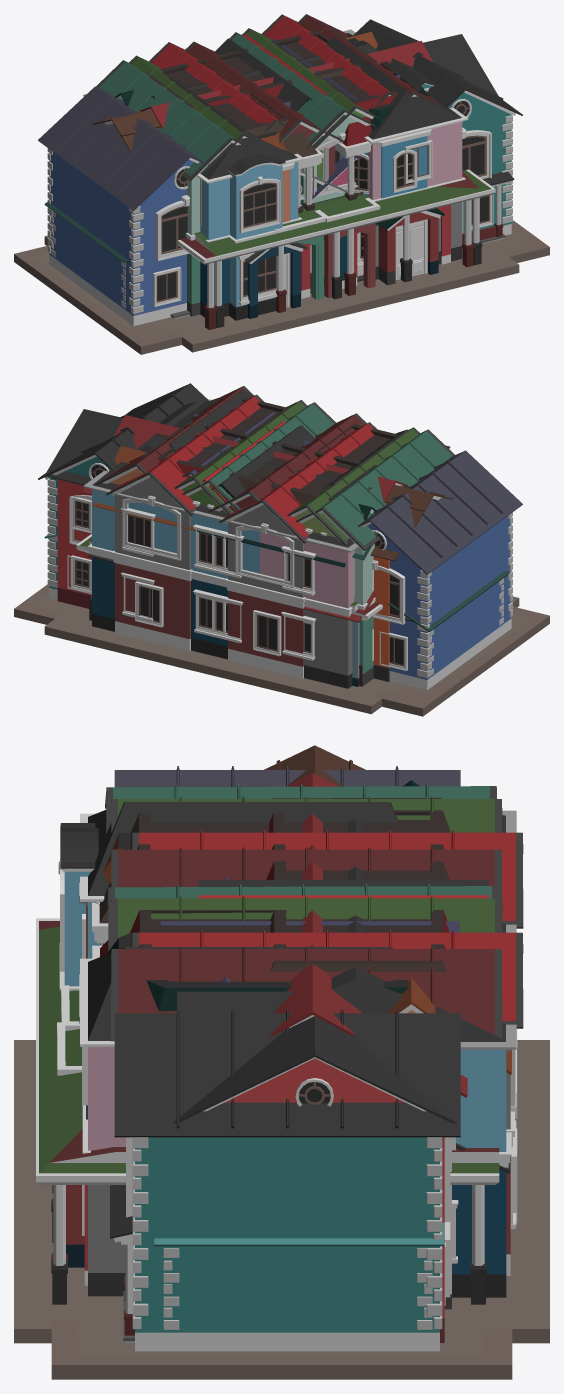
File: houses_pack.glb
3 views of the same model, one above another, from view 1: azimuth 30°, elevation 25°; view 2: azimuth 150°, elevation 25°; view 3: azimuth 270°, elevation 25° (orthographic). The views are drawn at different scales.
Visible parts, largest first — view 1: house_20, house_4, house_16, house_2, house_19, house_3, house_1, house_17, house_12, house_9, house_6, house_13 (+7 smaller); view 2: house_3, house_20, house_4, house_17, house_19, house_2, house_6, house_16, house_1, house_11, house_9, house_13 (+6 smaller); view 3: house_2, house_4, house_16, house_3, house_1, house_6, house_20, house_17, house_19, house_9, house_5, house_13 (+7 smaller).
Part boxes in pixels (x1,y1,x2,y2): house_20: [14, 86, 549, 354]; house_4: [167, 29, 508, 340]; house_16: [129, 28, 495, 334]; house_2: [14, 19, 549, 354]; house_19: [96, 32, 375, 316]; house_3: [44, 14, 519, 352]; house_1: [178, 14, 482, 329]; house_17: [83, 37, 468, 279]; house_12: [115, 38, 444, 285]; house_9: [159, 27, 379, 293]; house_6: [31, 34, 532, 338]; house_13: [145, 31, 397, 281]; house_3: [44, 394, 519, 714]; house_20: [14, 450, 549, 716]; house_4: [83, 429, 450, 702]; house_17: [55, 389, 372, 688]; house_19: [182, 402, 454, 686]; house_2: [14, 383, 548, 708]; house_6: [31, 409, 532, 694]; house_16: [76, 400, 420, 620]; house_1: [89, 386, 382, 686]; house_11: [363, 485, 453, 693]; house_9: [142, 420, 397, 504]; house_13: [157, 397, 377, 500]; house_2: [51, 1009, 512, 1379]; house_4: [20, 802, 543, 1321]; house_16: [35, 796, 502, 1308]; house_3: [14, 830, 549, 1343]; house_1: [36, 847, 502, 1261]; house_6: [78, 1016, 485, 1356]; house_20: [51, 766, 512, 1364]; house_17: [20, 810, 543, 1296]; house_19: [61, 783, 498, 1024]; house_9: [92, 810, 450, 971]; house_5: [77, 864, 487, 1334]; house_13: [92, 797, 449, 958].
Size of the model in its own units: 21.2 by 8.96 by 13.29.
Materials: 1 (1 with a texture image).
